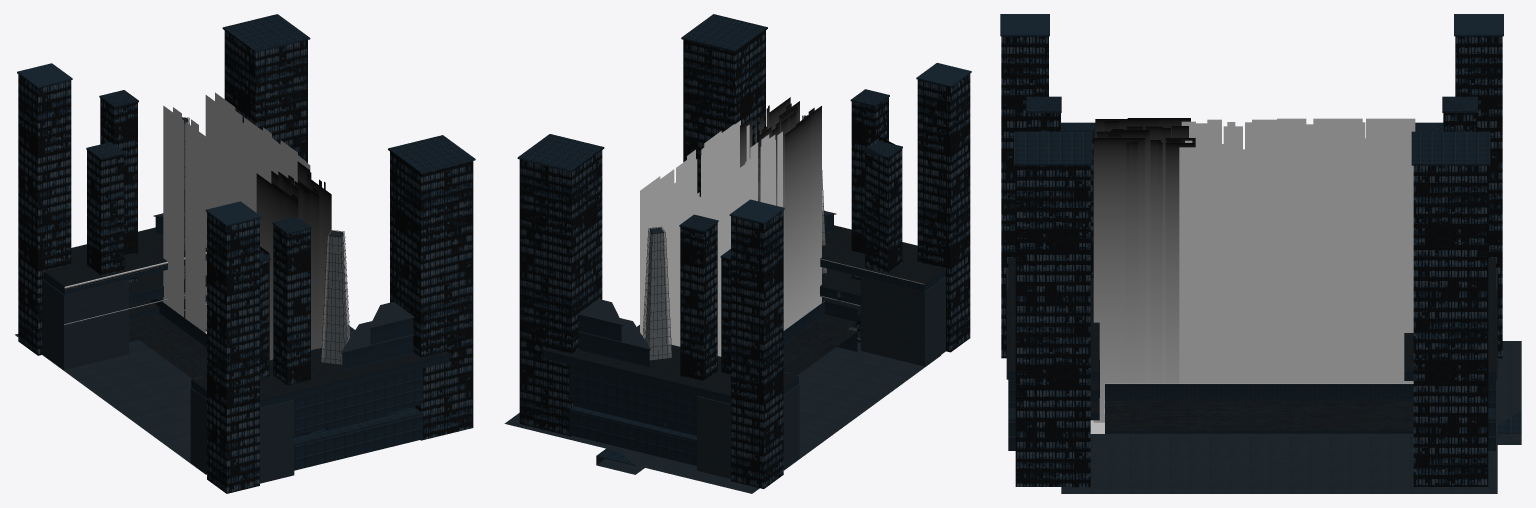
File: Virus_GAMELEVEL.FBX
3 views of the same model, side by side, from view 1: azimuth 30°, elevation 25°; view 2: azimuth 150°, elevation 25°; view 3: azimuth 270°, elevation 25° (orthographic). The views are drawn at different scales.
Parts seen in each view (by area): view 1: Level1, DataLines_VERTICALD, DataLines_VERTICALA, DataLines_VERTICALC, DataLines_VERTICALB, Glow; view 2: Level1, DataLines_VERTICALA, DataLines_VERTICALD, DataLines_VERTICALB, DataLines_VERTICALC; view 3: Level1, DataLines_VERTICALA, DataLines_VERTICALC, DataLines_VERTICALB, DataLines_VERTICALD.
Boxes of the visible parts, x1=… form: Level1: x1=15, y1=14, x2=475, y2=493; DataLines_VERTICALD: x1=163, y1=92, x2=242, y2=332; DataLines_VERTICALA: x1=256, y1=161, x2=331, y2=359; DataLines_VERTICALC: x1=208, y1=117, x2=278, y2=212; DataLines_VERTICALB: x1=236, y1=140, x2=310, y2=212; Glow: x1=64, y1=252, x2=206, y2=332; Level1: x1=504, y1=14, x2=971, y2=493; DataLines_VERTICALA: x1=740, y1=97, x2=821, y2=330; DataLines_VERTICALD: x1=640, y1=167, x2=734, y2=356; DataLines_VERTICALB: x1=704, y1=120, x2=782, y2=207; DataLines_VERTICALC: x1=676, y1=143, x2=757, y2=210; Level1: x1=1000, y1=14, x2=1521, y2=493; DataLines_VERTICALA: x1=1093, y1=118, x2=1195, y2=422; DataLines_VERTICALC: x1=1252, y1=118, x2=1338, y2=383; DataLines_VERTICALB: x1=1179, y1=119, x2=1259, y2=383; DataLines_VERTICALD: x1=1313, y1=118, x2=1415, y2=383.
Bounding box in the file's own units: 8046 × 8091 × 11393.
